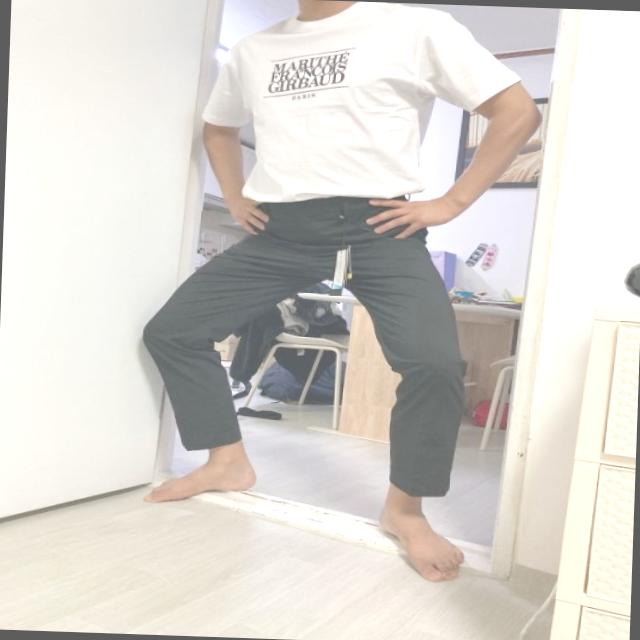shortsleeve: (194, 0, 521, 205)
slacks: (133, 192, 471, 502)
